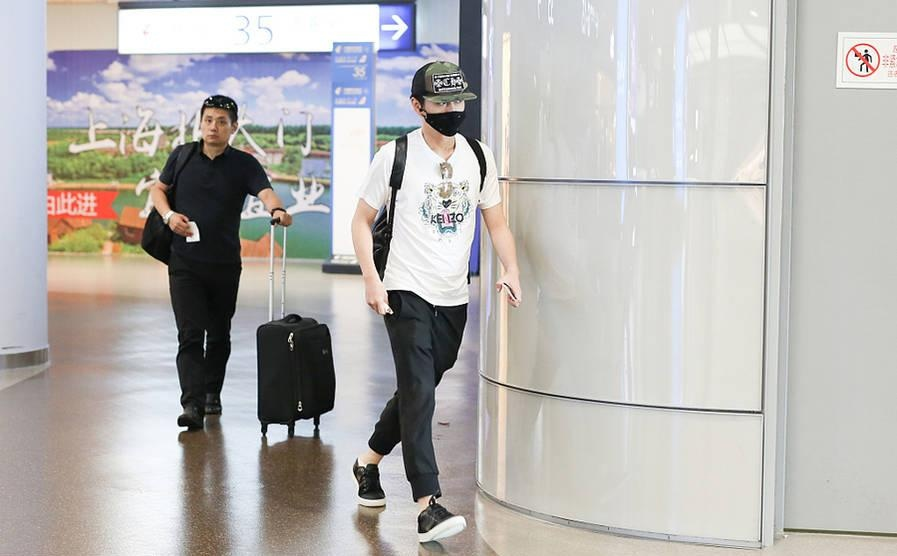Mask: (428, 90, 472, 134)
